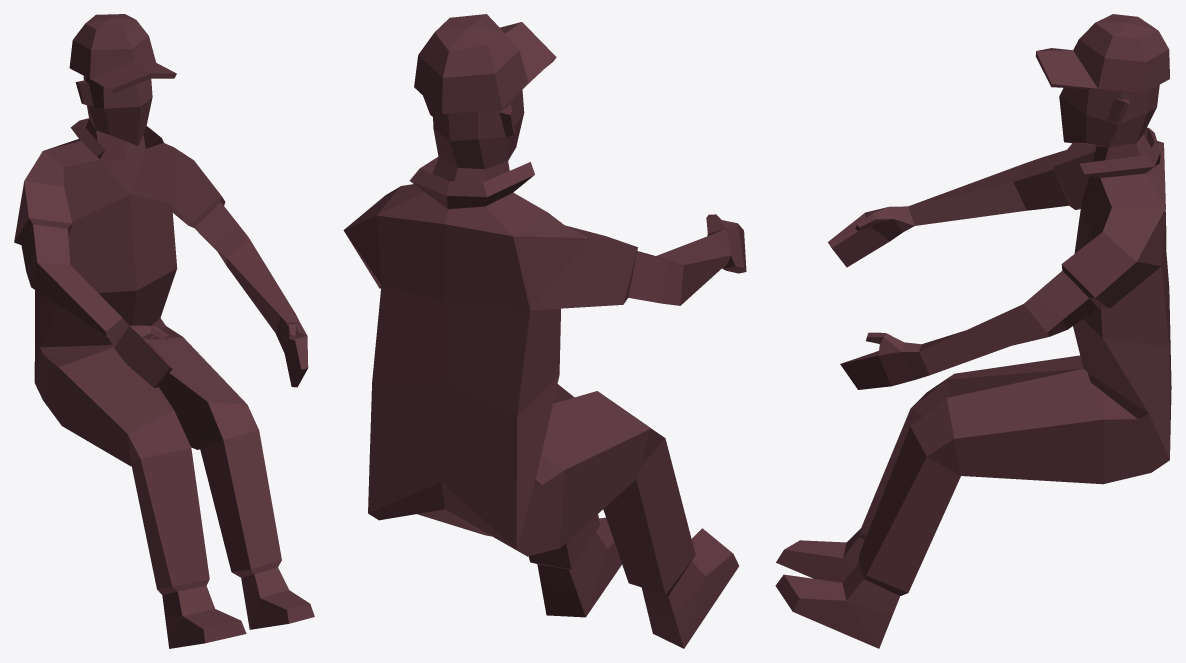
File: man-driver.fbx
3 renders of one model, left to right at view 1: azimuth 30°, elevation 25°; view 2: azimuth 150°, elevation 25°; view 3: azimuth 270°, elevation 25°, orthographic. The views are drawn at different scales.
Visible parts, largest first — view 1: man-golf_Rig; view 2: man-golf_Rig; view 3: man-golf_Rig.
Boxes of the visible parts, x1,y1,x2,y2 form: man-golf_Rig: [14, 14, 314, 648]; man-golf_Rig: [343, 14, 746, 648]; man-golf_Rig: [775, 14, 1171, 648].
Bounding box in the file's own units: 0.6575 × 1.49 × 0.8946.
